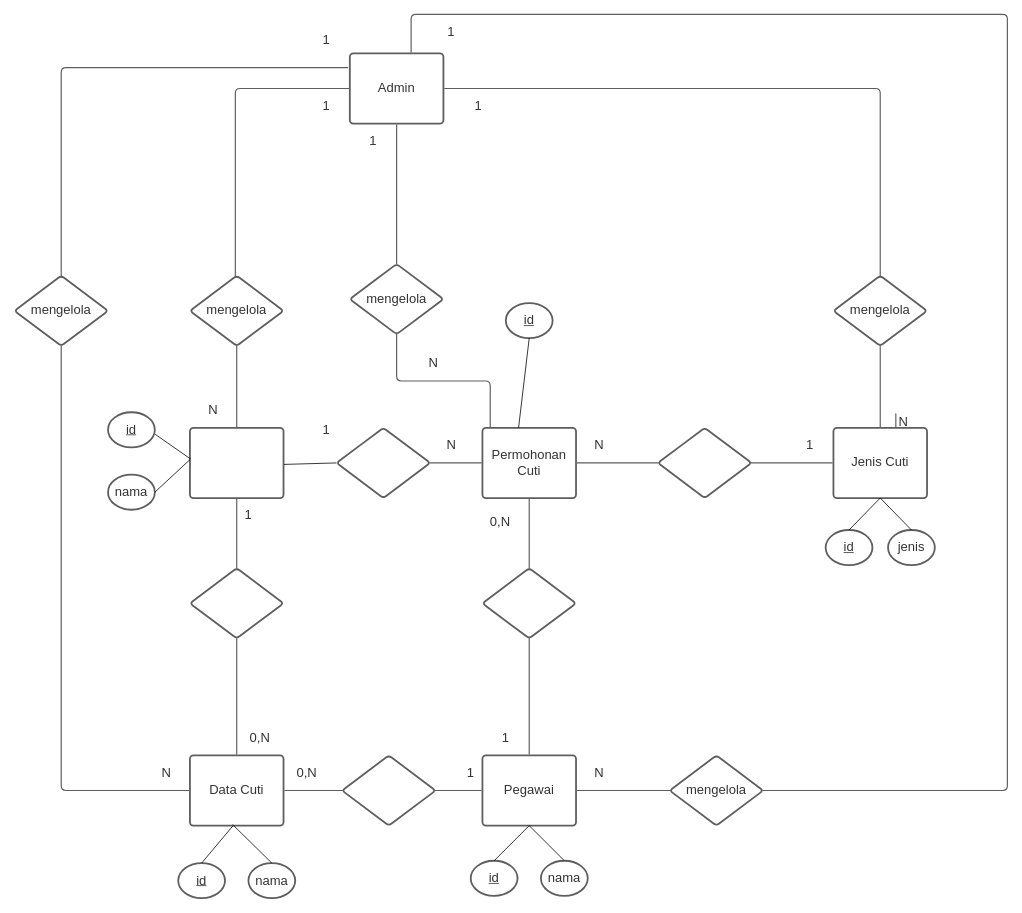
Some shapes in this 1022 by 913 pixel diagram are drawn without their labels. Each missing label, with the box of its shape:
Atasan: (189, 427, 284, 499)
Melihat: (341, 754, 436, 826)
memiliki: (657, 427, 752, 499)
Memohon: (481, 567, 577, 639)
menghasilkan: (189, 567, 284, 639)
penyetujuan: (335, 427, 431, 499)
